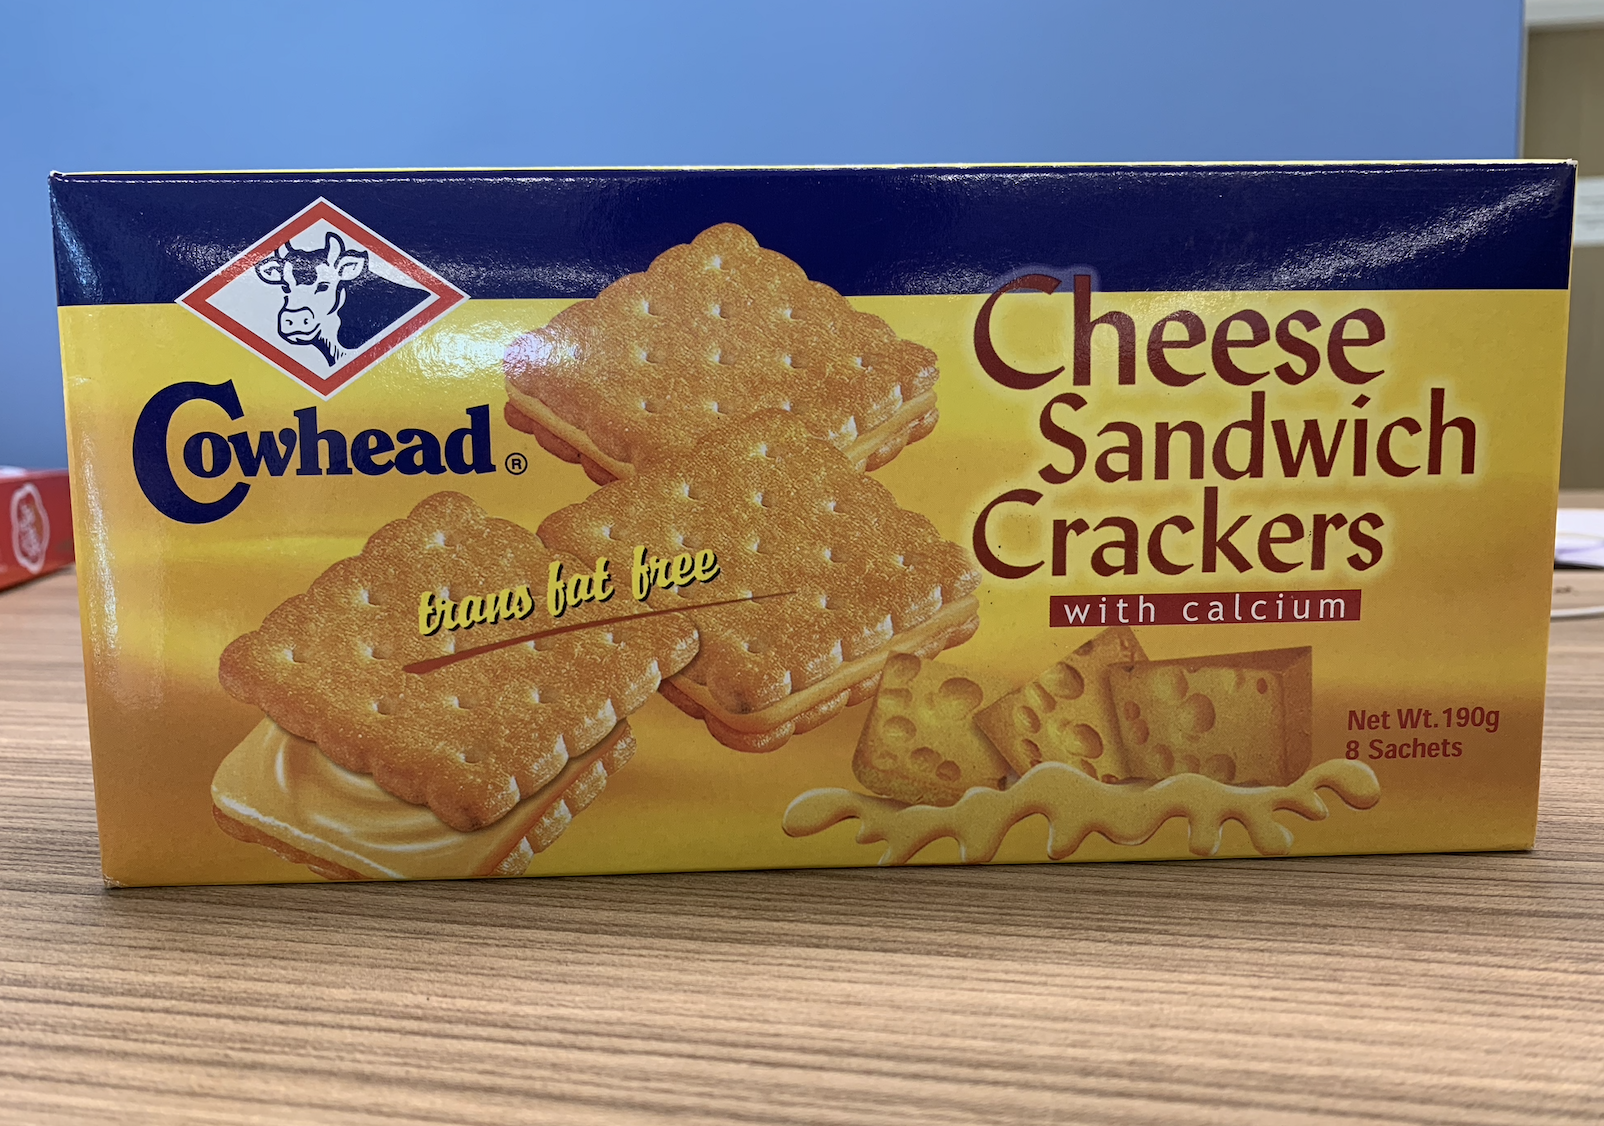crackers_100g-199g: (113, 197, 1536, 829)
